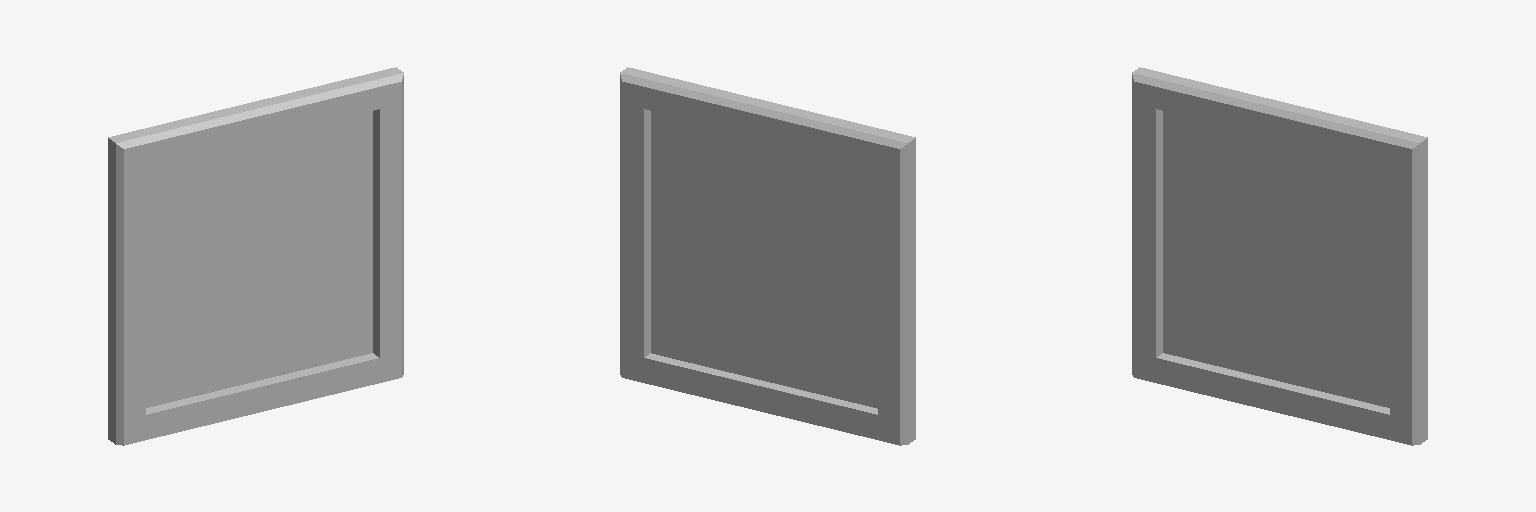
File: Wall_Glass_Red.obj
The picture shows the model from 3 angles: view 1: azimuth 30°, elevation 25°; view 2: azimuth 150°, elevation 25°; view 3: azimuth 330°, elevation 25°; orthographic projection.
Parts seen in each view (by area): view 1: Wall_Glass_Red; view 2: Wall_Glass_Red; view 3: Wall_Glass_Red.
Boxes of the visible parts, box(x1,y1,x2,y2) form: Wall_Glass_Red: box(108, 67, 403, 445); Wall_Glass_Red: box(620, 67, 915, 445); Wall_Glass_Red: box(1132, 67, 1427, 445).
Size of the model in its own units: 4 by 4 by 0.3241.